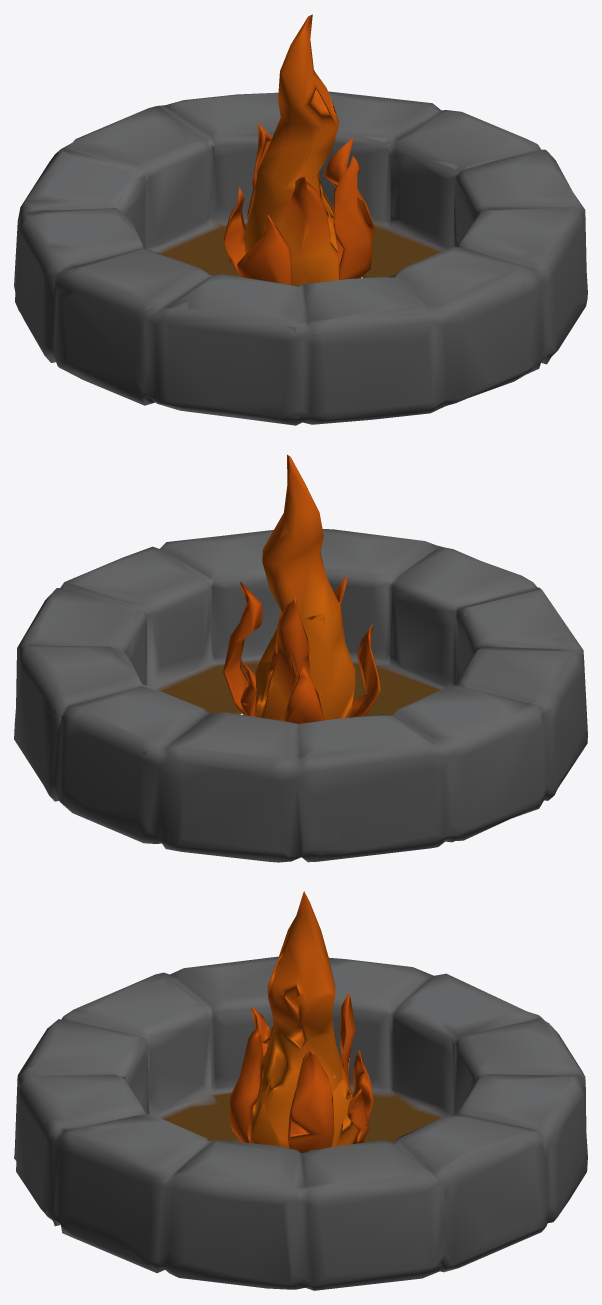
The model's file is gen3d-fire-pit-lod0.glb.
The picture shows the model from 3 angles, top to bottom: view 1: azimuth 30°, elevation 25°; view 2: azimuth 150°, elevation 25°; view 3: azimuth 270°, elevation 25°; orthographic projection.
Visible parts, largest first — view 1: part_0; view 2: part_0; view 3: part_0.
Boxes of the visible parts, box(x1,y1,x2,y2) form: part_0: box(14, 14, 587, 425); part_0: box(14, 454, 587, 862); part_0: box(14, 891, 587, 1290).
Size of the model in its own units: 1.79 by 0.9892 by 1.79.
